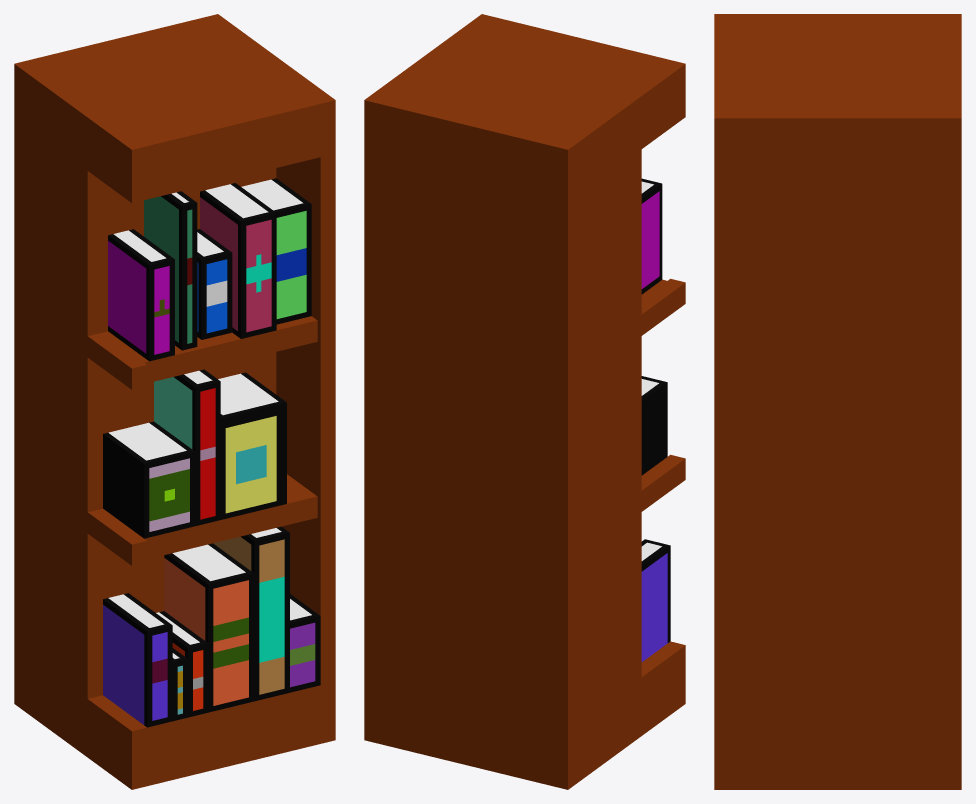
The model's file is leftOpen1.obj.
3 renders of one model, left to right at view 1: azimuth 30°, elevation 25°; view 2: azimuth 150°, elevation 25°; view 3: azimuth 270°, elevation 25°, orthographic. The views are drawn at different scales.
Bounding box in the file's own units: 4 × 12 × 4.
1 material, 1 textured.
